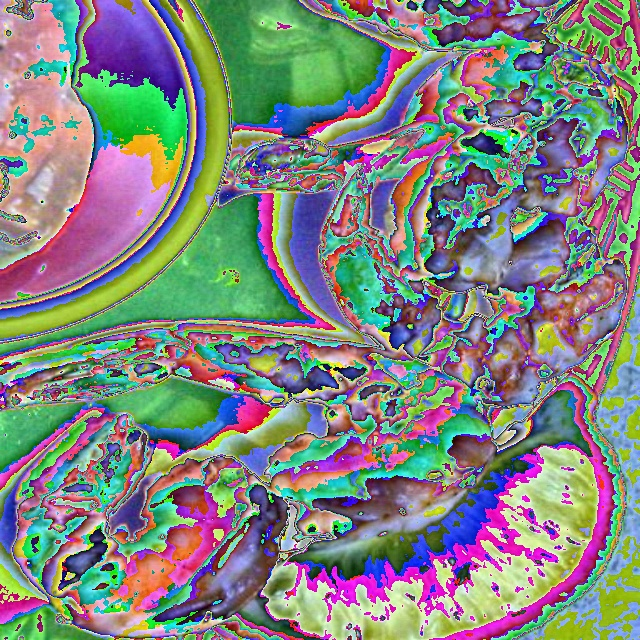background: (0, 0, 634, 640), (0, 0, 100, 275)
